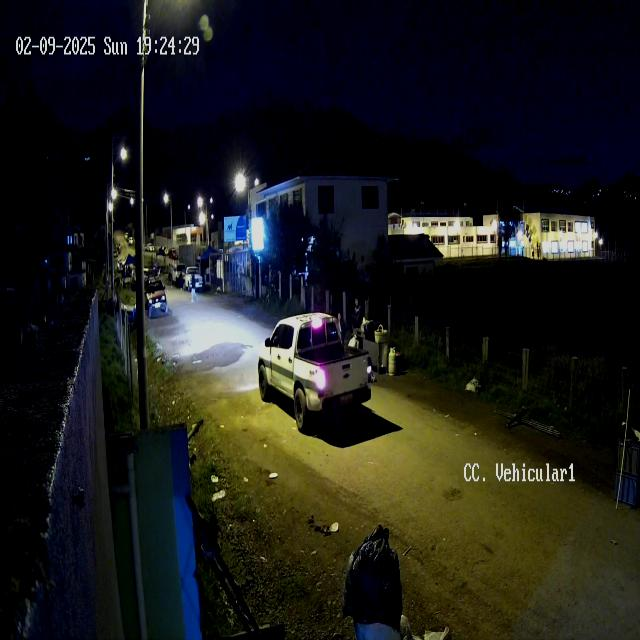CMT: (258, 311, 372, 433)
